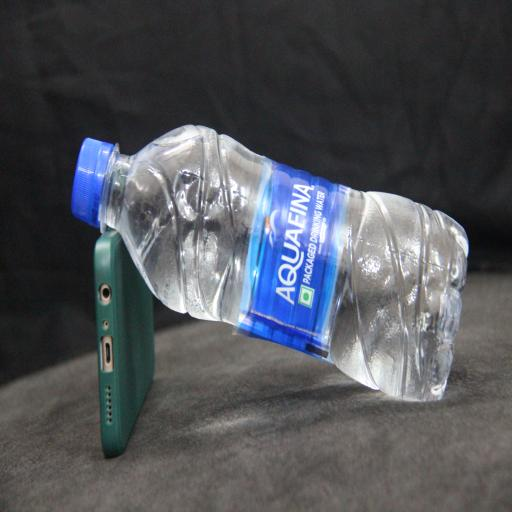Aquafina: (68, 118, 472, 406)
